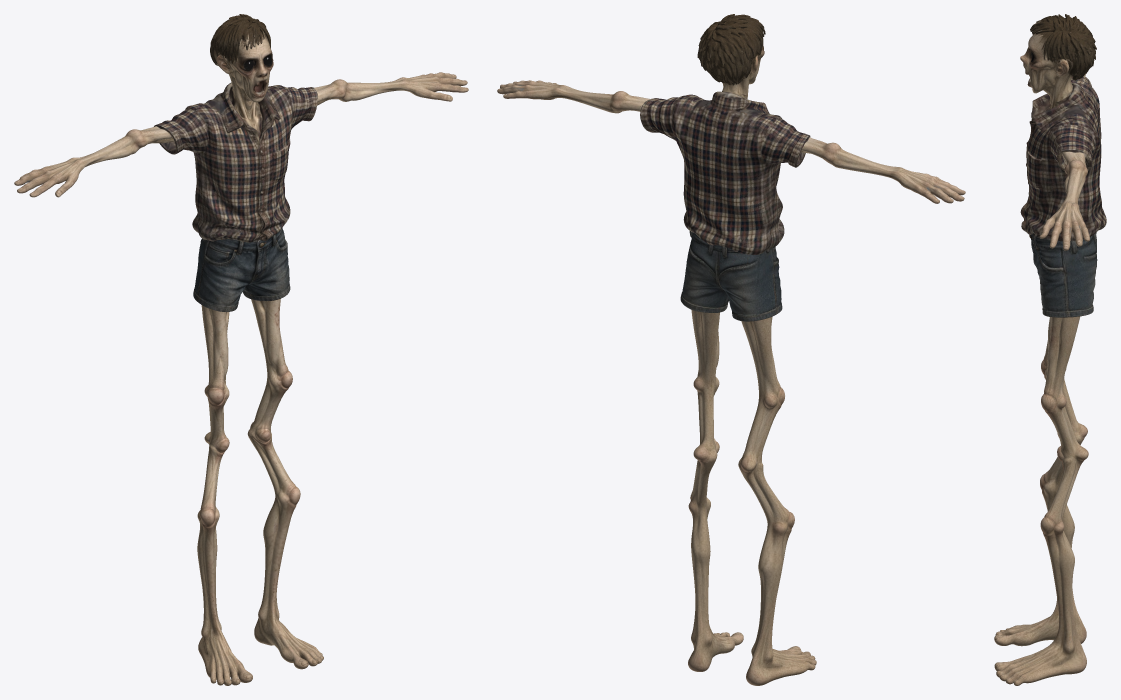
The model's file is Flat5Bathtub.fbx.
The picture shows the model from 3 angles, left to right: view 1: azimuth 30°, elevation 25°; view 2: azimuth 150°, elevation 25°; view 3: azimuth 270°, elevation 25°; orthographic projection. The views are drawn at different scales.
Parts seen in each view (by area): view 1: Flat5Bathtub; view 2: Flat5Bathtub; view 3: Flat5Bathtub.
Part boxes in pixels (box(x1,y1,x2,y2)): Flat5Bathtub: box(14, 14, 468, 685); Flat5Bathtub: box(497, 14, 965, 685); Flat5Bathtub: box(994, 14, 1106, 685).
Size of the model in its own units: 1.41 by 1.9 by 0.3019.
1 material, 1 textured.
